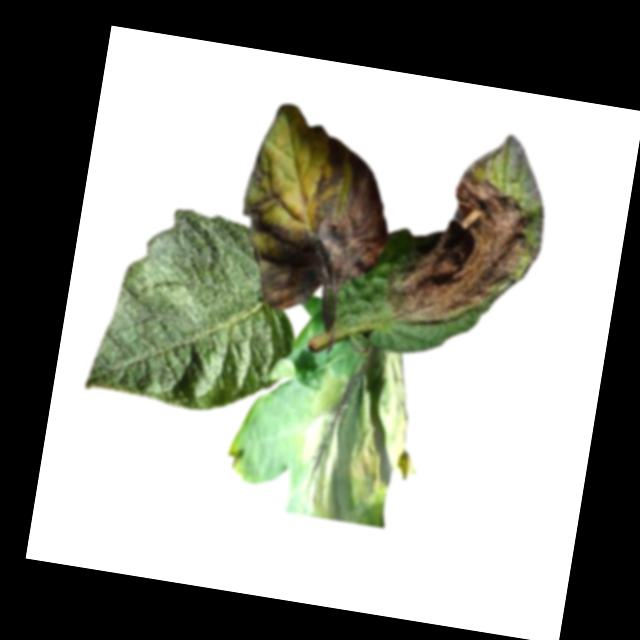Late_blight: (225, 98, 406, 325), (382, 117, 558, 341), (292, 342, 433, 533)
healthy: (83, 198, 314, 424)
